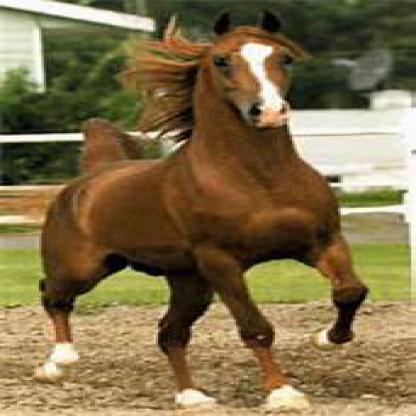horse: (37, 8, 372, 414)
